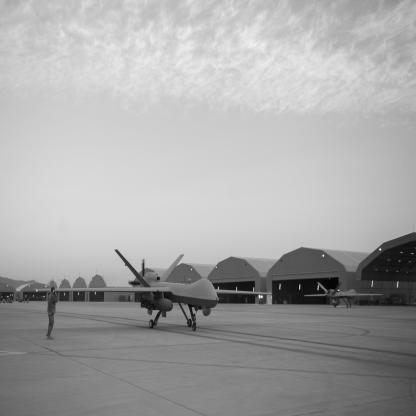MQ9: (33, 250, 273, 332), (305, 282, 385, 308), (29, 295, 44, 302)
